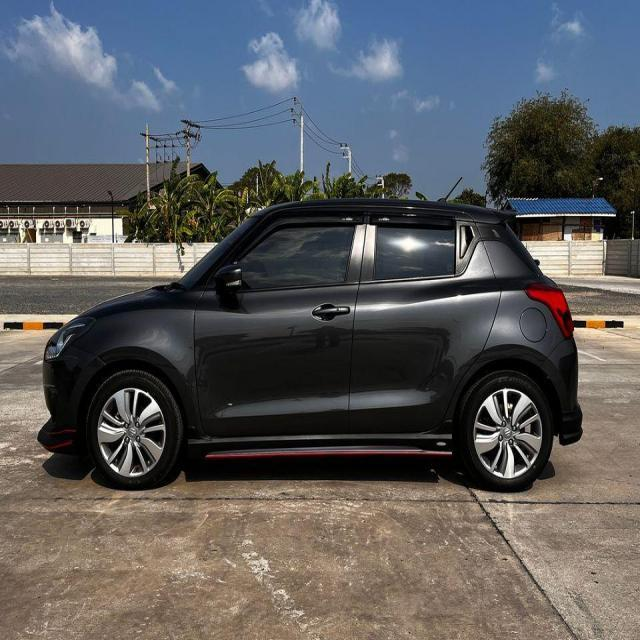Hatchback: (37, 198, 584, 495)
